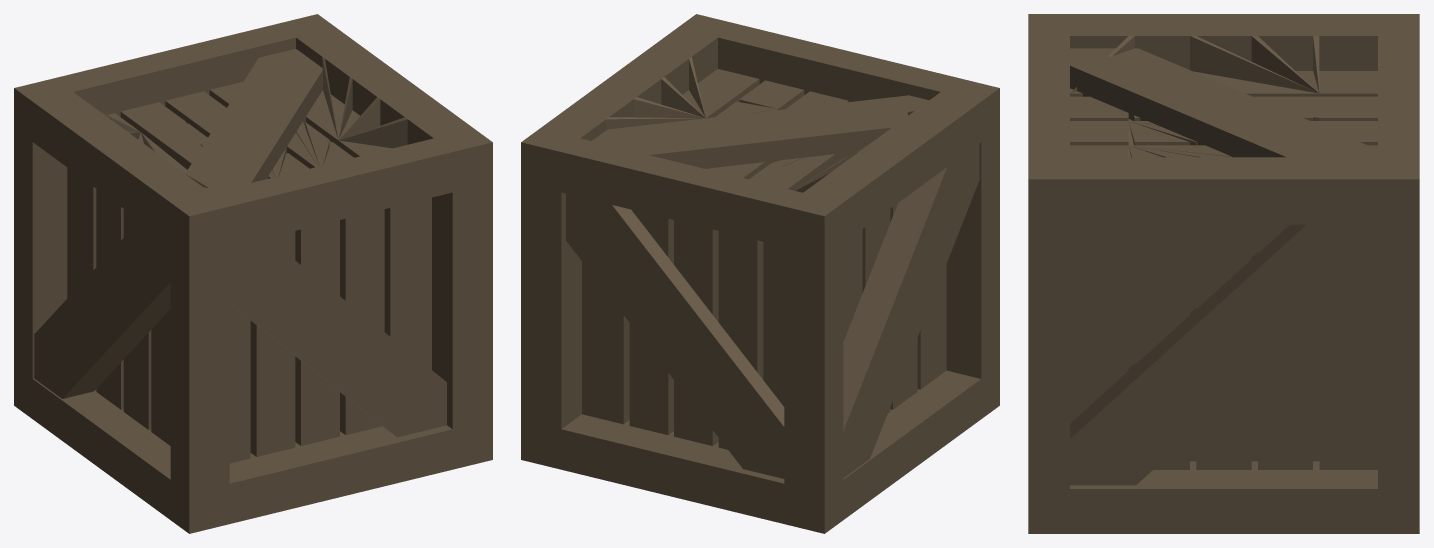
The model's file is Crate2.fbx.
3 views of the same model, side by side, from view 1: azimuth 30°, elevation 25°; view 2: azimuth 150°, elevation 25°; view 3: azimuth 270°, elevation 25° (orthographic). The views are drawn at different scales.
Visible parts, largest first — view 1: Cube.001; view 2: Cube.001; view 3: Cube.001.
Boxes of the visible parts, bbox=[...] form: Cube.001: bbox=[14, 14, 492, 533]; Cube.001: bbox=[521, 14, 999, 533]; Cube.001: bbox=[1028, 14, 1419, 533].
Bounding box in the file's own units: 200 × 200 × 200.
